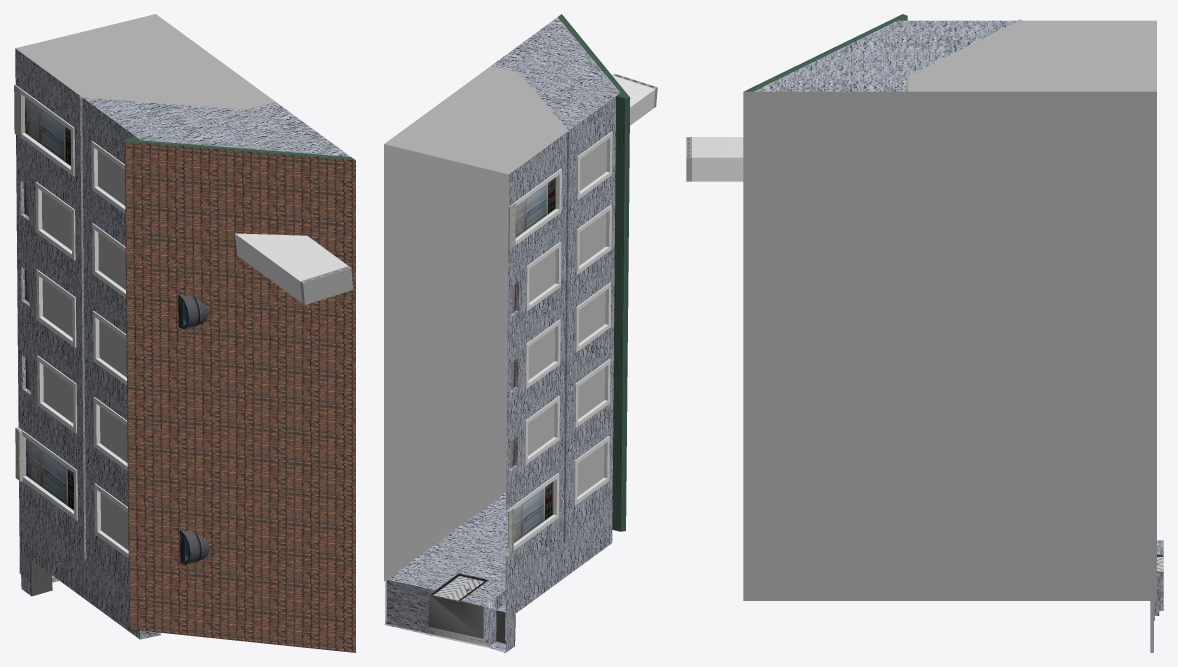
Rendered from Myyrivahe_50.obj.
The picture shows the model from 3 angles, left to right: view 1: azimuth 30°, elevation 25°; view 2: azimuth 150°, elevation 25°; view 3: azimuth 270°, elevation 25°; orthographic projection. The views are drawn at different scales.
Parts seen in each view (by area): view 1: myv_50, xxx; view 2: myv_50, xxx; view 3: xxx, myv_50.
Part boxes in pixels (x1,y1,x2,y2): myv_50: [14, 48, 355, 652]; xxx: [15, 14, 275, 109]; myv_50: [385, 14, 657, 652]; xxx: [384, 65, 567, 581]; xxx: [743, 20, 1156, 600]; myv_50: [686, 14, 1163, 652].
Bounding box in the file's own units: 5.33 × 17.89 × 13.8.
